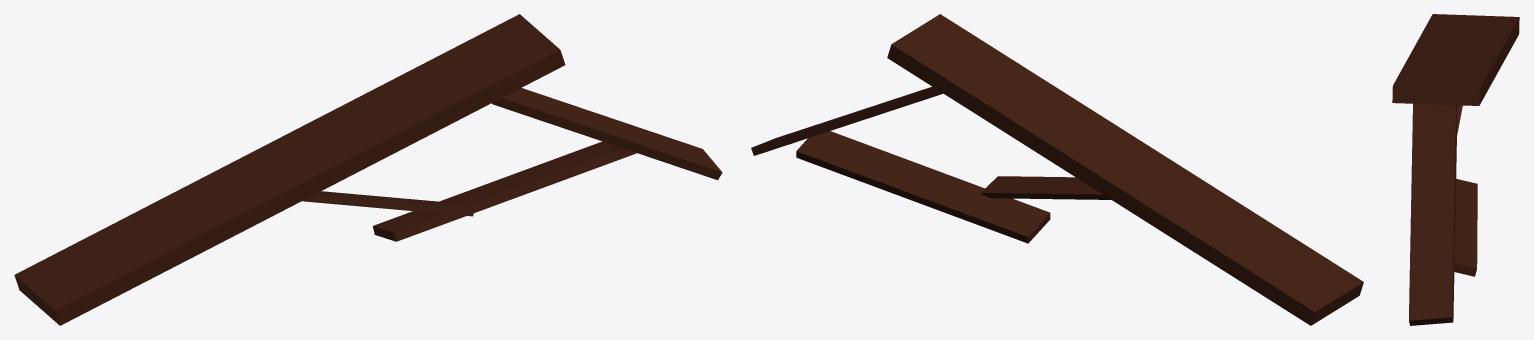
File: Planks Obstacle.fbx
3 renders of one model, left to right at view 1: azimuth 30°, elevation 25°; view 2: azimuth 150°, elevation 25°; view 3: azimuth 270°, elevation 25°, orthographic. The views are drawn at different scales.
Parts seen in each view (by area): view 1: Cube; view 2: Cube; view 3: Cube.
Boxes of the visible parts, x1,y1,x2,y2 form: Cube: [14, 14, 722, 325]; Cube: [751, 14, 1363, 325]; Cube: [1392, 14, 1519, 325].
Bounding box in the file's own units: 208 × 55.48 × 37.65.
